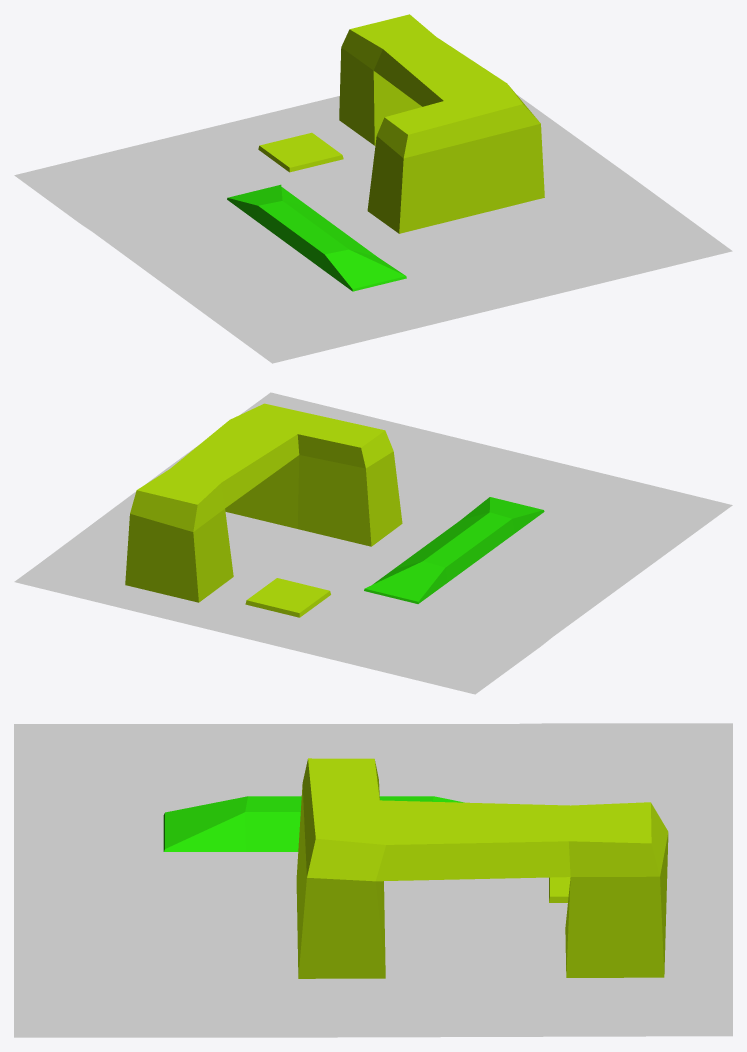
The model's file is map_slopes.glb.
3 renders of one model, top to bottom at view 1: azimuth 30°, elevation 25°; view 2: azimuth 150°, elevation 25°; view 3: azimuth 270°, elevation 25°, orthographic. The views are drawn at different scales.
Parts seen in each view (by area): view 1: Ground; view 2: Ground; view 3: Ground.
Boxes of the visible parts, box(x1,y1,x2,y2) form: Ground: box(14, 14, 732, 363); Ground: box(14, 392, 732, 694); Ground: box(14, 723, 732, 1037).
Bounding box in the file's own units: 17.02 × 3.27 × 16.46.
